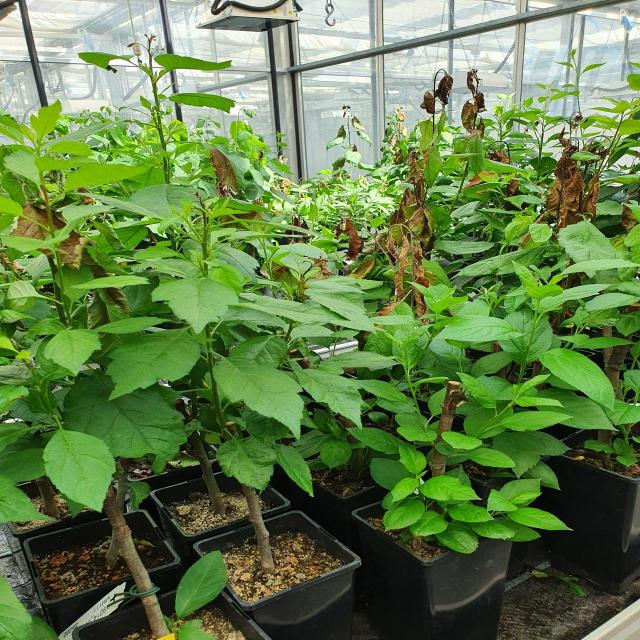-FireBlight-: (329, 149, 438, 326), (5, 190, 130, 313), (521, 128, 610, 233), (456, 65, 488, 141), (205, 144, 247, 201), (418, 63, 457, 114)
